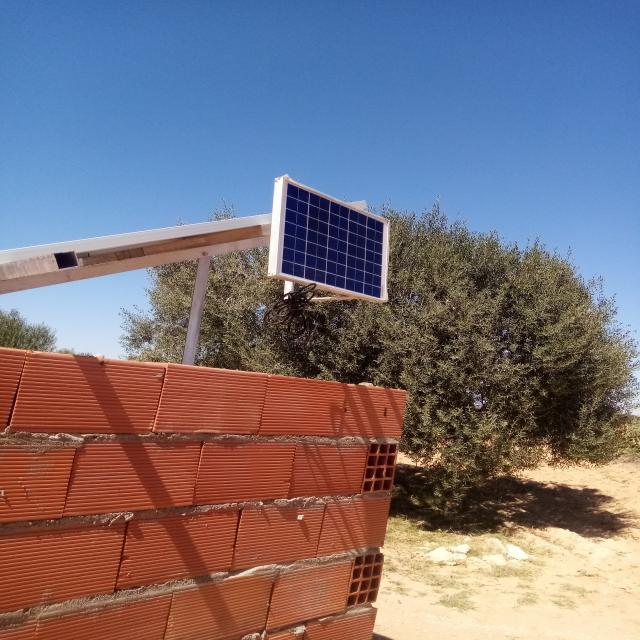no faulty: (277, 178, 390, 301)
